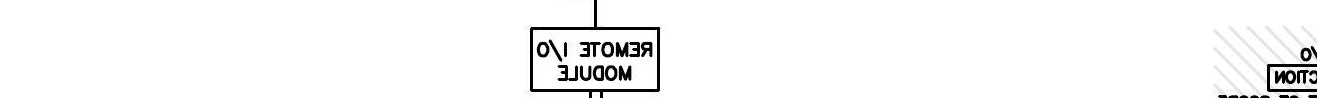remote_io_module: (530, 27, 661, 92)
